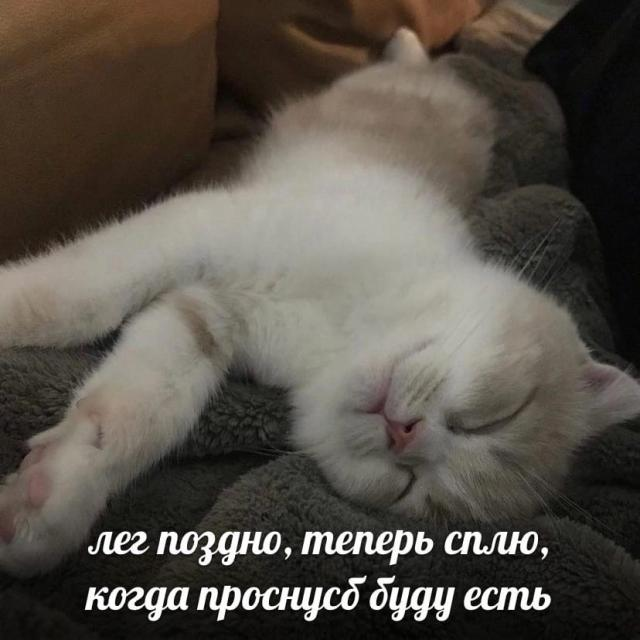cat: (217, 57, 628, 536)
